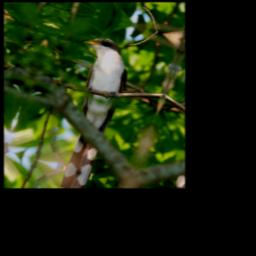Cuckoo: (35, 30, 142, 177)
